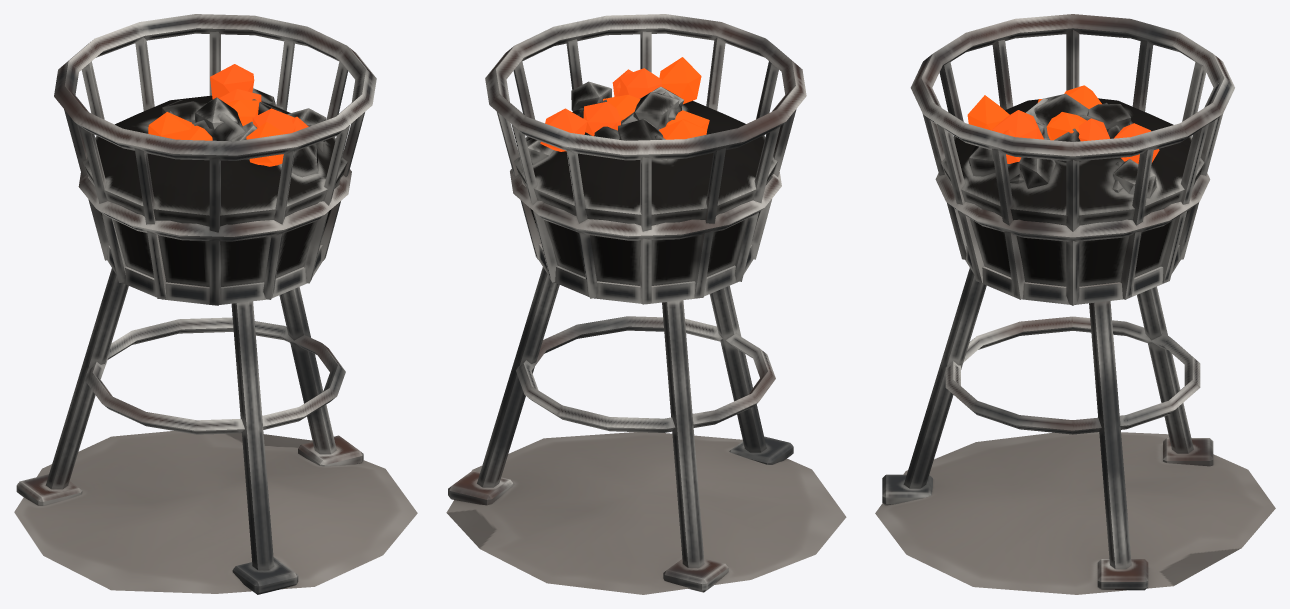
Rendered from foundry_brazier.glb.
The picture shows the model from 3 angles, left to right: view 1: azimuth 30°, elevation 25°; view 2: azimuth 150°, elevation 25°; view 3: azimuth 270°, elevation 25°; orthographic projection.
Visible parts, largest first — view 1: foundry_brazier, foundry_brazier_glow; view 2: foundry_brazier, foundry_brazier_glow; view 3: foundry_brazier, foundry_brazier_glow.
Boxes of the visible parts, box(x1,y1,x2,y2) form: foundry_brazier: box(14, 14, 417, 594); foundry_brazier_glow: box(148, 64, 308, 166); foundry_brazier: box(446, 14, 846, 594); foundry_brazier_glow: box(540, 57, 709, 151); foundry_brazier: box(875, 14, 1275, 594); foundry_brazier_glow: box(967, 85, 1159, 163).
Bounding box in the file's own units: 1.1 × 1.34 × 1.11.
Materials: 3 (1 with a texture image).
